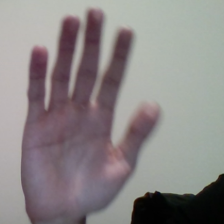left: (18, 4, 166, 221)
